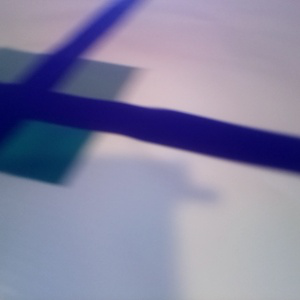bottom_right: (1, 97, 92, 182)
top_left: (1, 48, 48, 118)
top_right: (38, 60, 133, 121)
